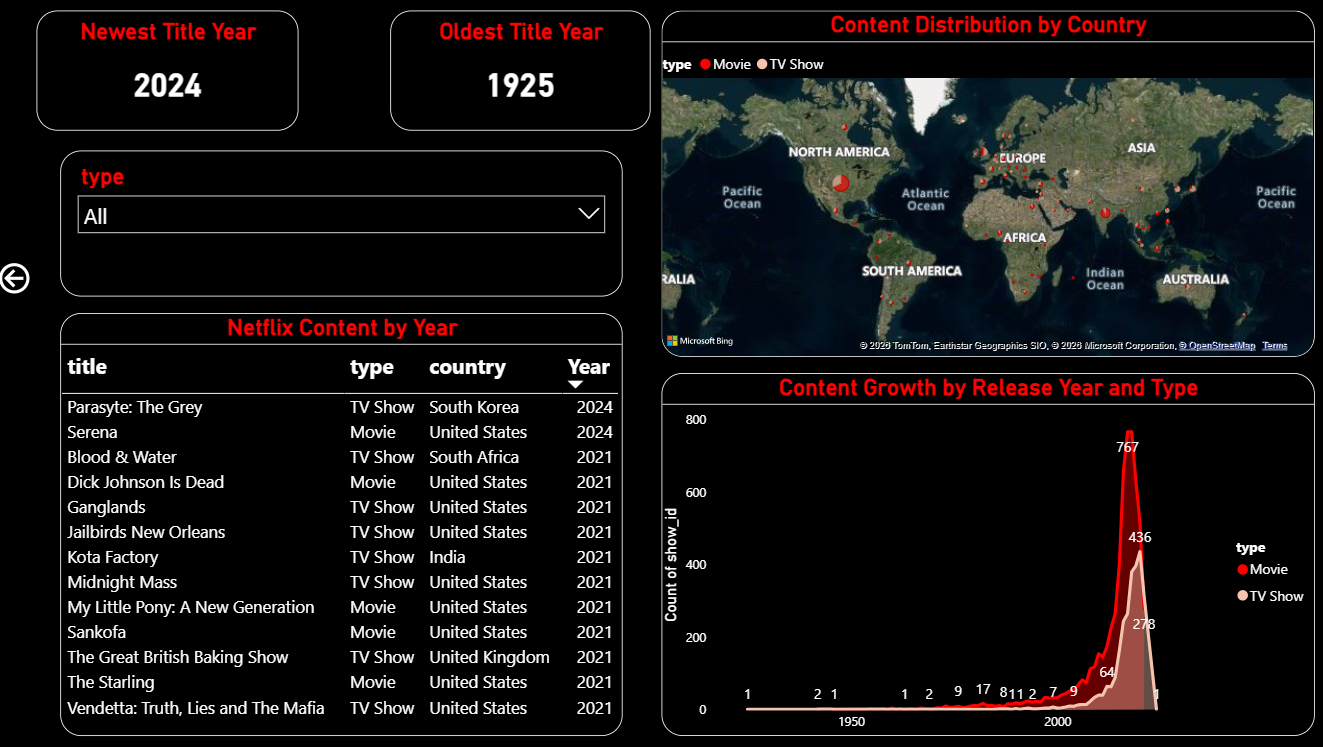

What the dashboard file says about the page in this screenshot:
{"tool":"powerbi","page":{"name":"Trend Analysis","canvas":[1280,720],"ordinal":3},"visuals":[{"type":"areaChart","title":"Content Growth by Release Year and Type","fields":{"Category":["Netflix_Titles.release_year"],"Y":["CountNonNull(Netflix_Titles.show_id)"],"Series":["Netflix_Titles.type"]},"box":[640.6,359.2,626.2,347.7],"z":0},{"type":"map","title":"Content Distribution by Country","fields":{"Size":["CountNonNull(Netflix_Titles.show_id)"],"Category":["Netflix_Titles.country"],"Series":["Netflix_Titles.type"]},"box":[640.6,11.5,626.2,331.8],"z":1000},{"type":"card","title":"Newest Title Year","fields":{"Values":["Max(Netflix_Titles.release_year)"]},"box":[40.4,11.5,251,115.4],"z":2000},{"type":"card","title":"Oldest Title Year","fields":{"Values":["Min(Netflix_Titles.release_year)"]},"box":[379.4,11.5,249.6,115.4],"z":3000},{"type":"tableEx","title":"Netflix Content by Year","fields":{"Values":["Netflix_Titles.title","Netflix_Titles.type","Netflix_Titles.country","Netflix_Titles.date_added.Variation.Date Hierarchy.Year"]},"box":[63.5,301.5,539.6,405.4],"z":4000},{"type":"slicer","fields":{"Values":["Netflix_Titles.type"]},"box":[63.5,145.7,539.6,139.9],"z":5000},{"type":"actionButton","box":[0,249.6,40.4,39],"z":6000}]}

Visuals, with their boxes in screenshot pixels (x1, y1, x2, y2), scaled from the page's 1280x720 canvas onto the 1323x747 screenshot:
"Content Growth by Release Year and Type" areaChart: [662, 373, 1309, 733]
"Content Distribution by Country" map: [662, 12, 1309, 356]
"Newest Title Year" card: [42, 12, 301, 132]
"Oldest Title Year" card: [392, 12, 650, 132]
"Netflix Content by Year" tableEx: [66, 313, 623, 733]
slicer - Netflix_Titles.type: [66, 151, 623, 296]
actionButton: [0, 259, 42, 299]
